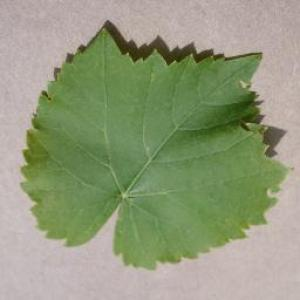Folha: (18, 20, 292, 271)
